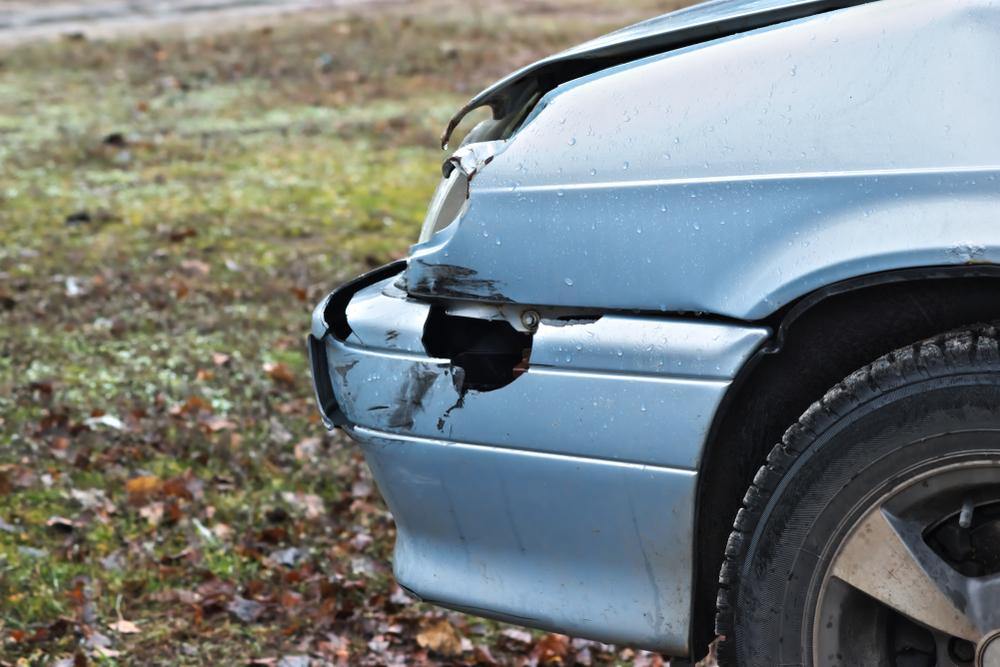crack: (310, 259, 412, 433), (421, 301, 540, 414)
scratch: (327, 328, 440, 434), (412, 260, 521, 309)
